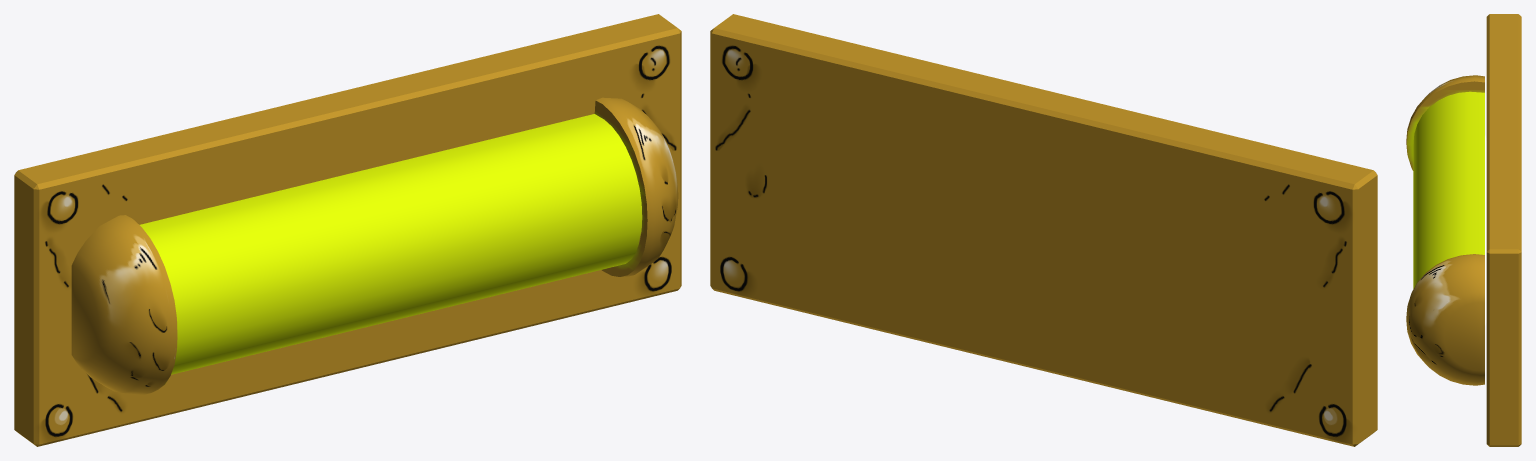
Rendered from Light Fixture.fbx.
The picture shows the model from 3 angles, left to right: view 1: azimuth 30°, elevation 25°; view 2: azimuth 150°, elevation 25°; view 3: azimuth 270°, elevation 25°; orthographic projection. The views are drawn at different scales.
Parts seen in each view (by area): view 1: Light Fixture; view 2: Light Fixture; view 3: Light Fixture.
Boxes of the visible parts, <box> form: Light Fixture: <box>14,14,681,446</box>; Light Fixture: <box>710,14,1377,446</box>; Light Fixture: <box>1406,14,1521,446</box>.
Bounding box in the file's own units: 34.44 × 13.34 × 7.06.
